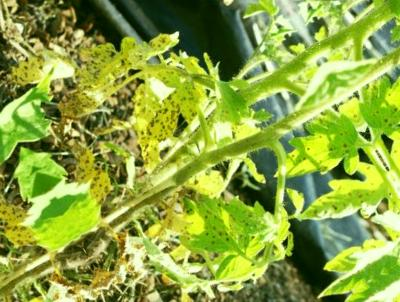Tomato Septoria leaf spot: (28, 9, 186, 139), (161, 163, 293, 301), (99, 60, 219, 178), (294, 156, 400, 255), (274, 105, 373, 198)
